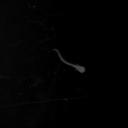fish: (53, 48, 86, 74)
